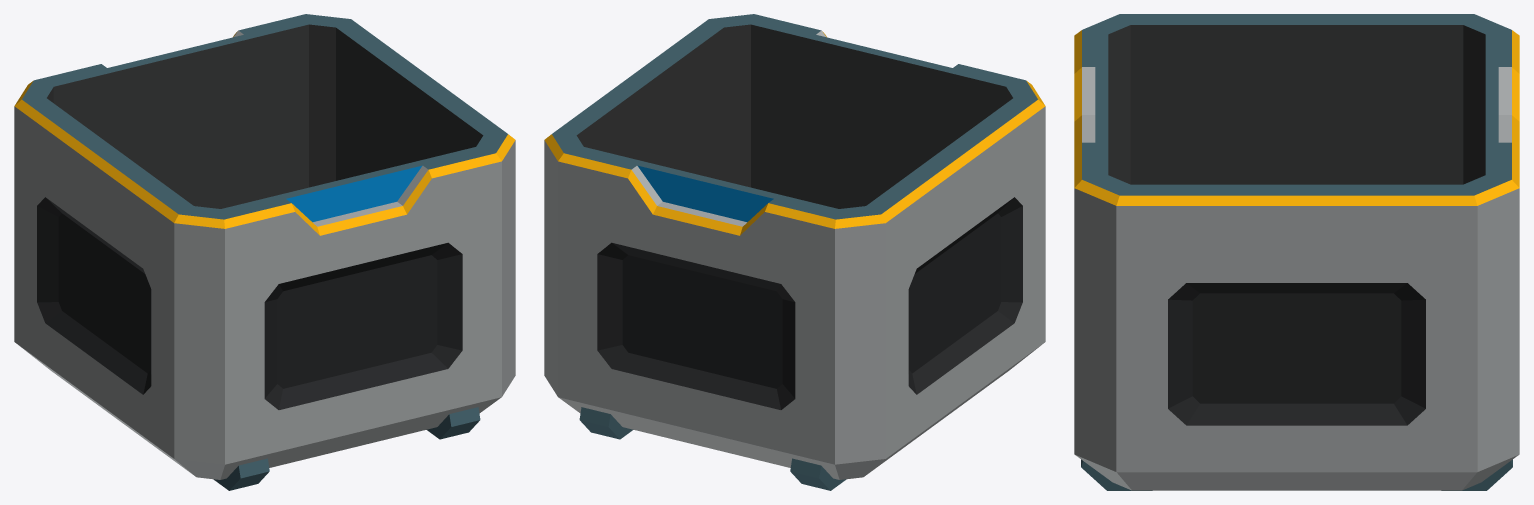
Rendered from Crate_002.fbx.
3 views of the same model, side by side, from view 1: azimuth 30°, elevation 25°; view 2: azimuth 150°, elevation 25°; view 3: azimuth 270°, elevation 25° (orthographic). The views are drawn at different scales.
Parts seen in each view (by area): view 1: Crate_002; view 2: Crate_002; view 3: Crate_002.
Part boxes in pixels (x1,y1,x2,y2): Crate_002: (14, 14, 515, 490); Crate_002: (544, 14, 1045, 490); Crate_002: (1074, 14, 1519, 490).
Size of the model in its own units: 39.99 by 39.99 by 31.72.
